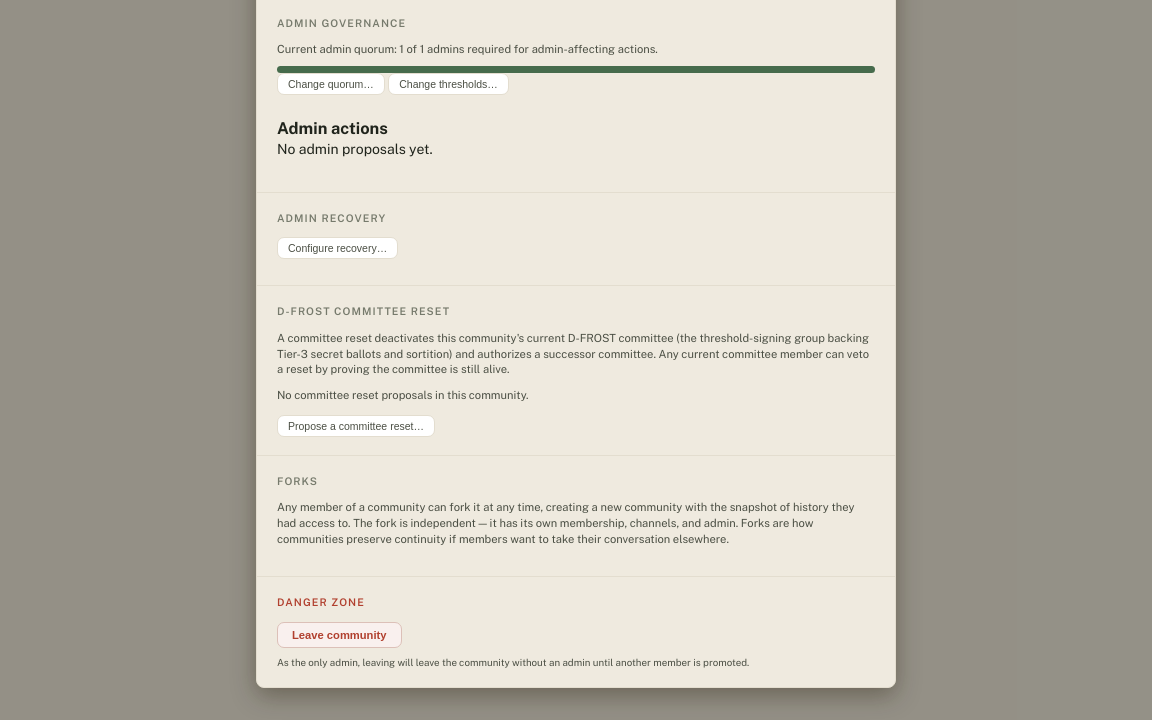
Test: CommunitySettingsPanel › Leave as only admin opens LastAdminWarningDialog with LEAVE token requirement
(page scrolled)
What coordinates should you click on to do the following:
click the button "Leave community"
I would click on:
 (339, 634)
Its box is 277,622 -> 402,648.
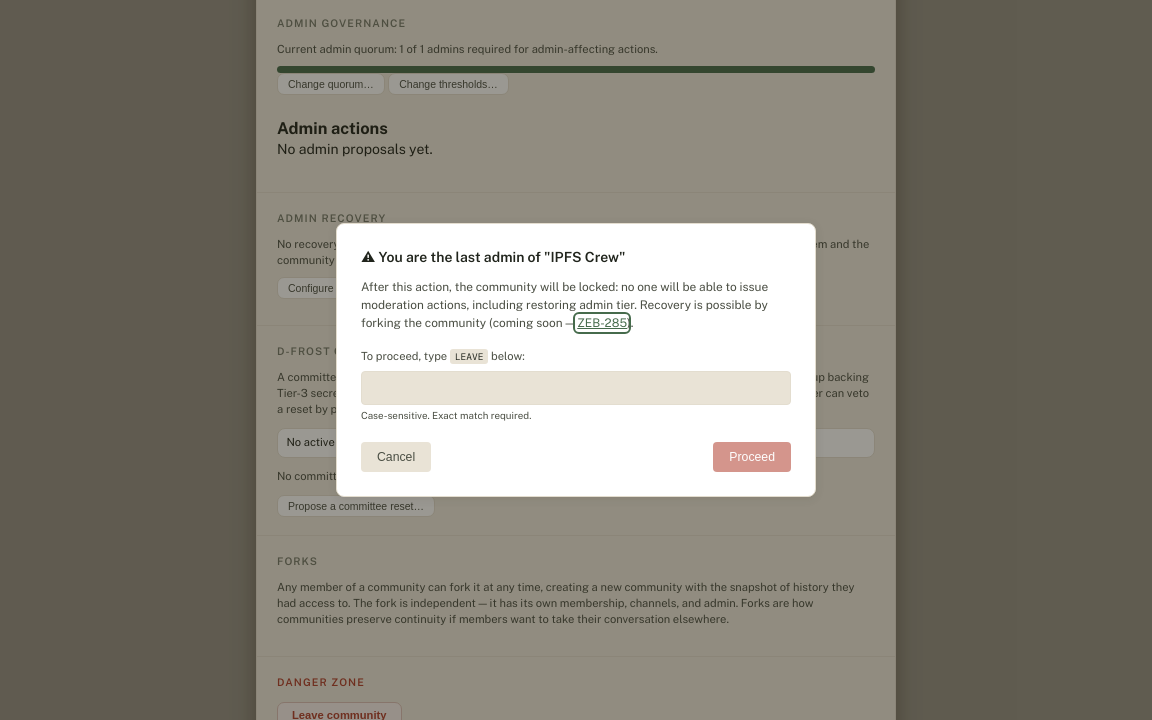
expect the field labelled "To proceed, type LEAVE below:" is shown: met, box 361,371 -> 791,405
expect the heading "⚠ You are the last admin of \"IPFS Crew\"" is shown: met, box 361,249 -> 626,265
